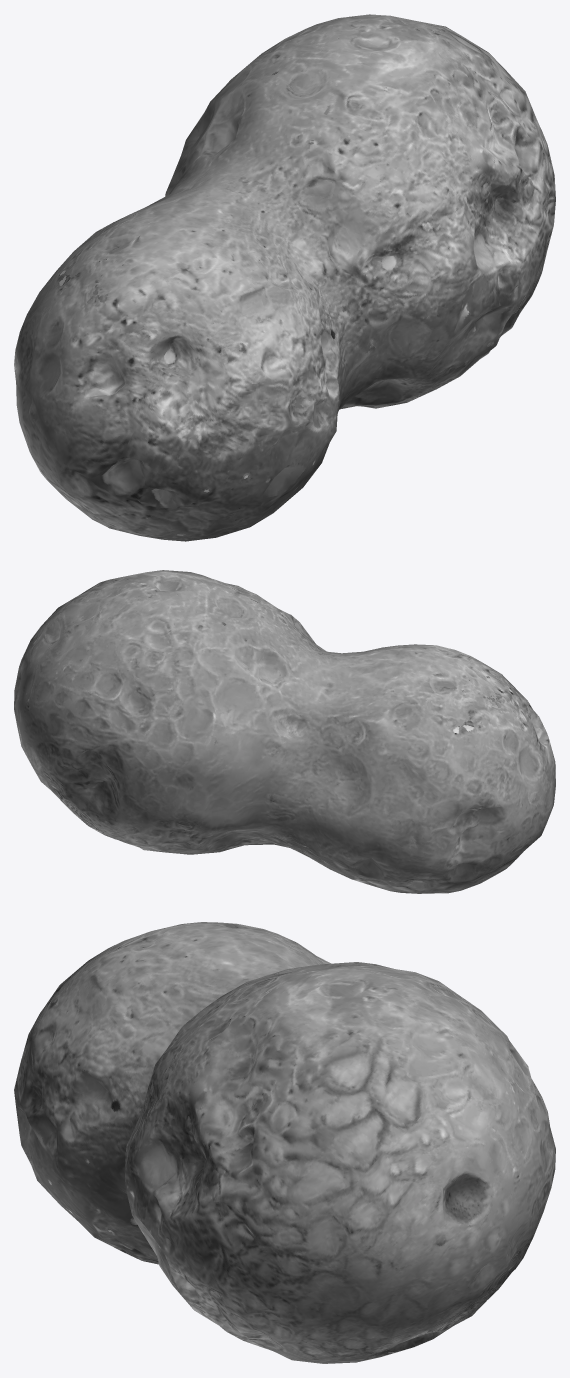
The model's file is rock_05.glb.
3 renders of one model, top to bottom at view 1: azimuth 30°, elevation 25°; view 2: azimuth 150°, elevation 25°; view 3: azimuth 270°, elevation 25°, orthographic. The views are drawn at different scales.
Visible parts, largest first — view 1: rock_05; view 2: rock_05; view 3: rock_05.
Boxes of the visible parts, x1=… form: rock_05: x1=14, y1=14, x2=555, y2=541; rock_05: x1=14, y1=570, x2=555, y2=893; rock_05: x1=14, y1=922, x2=555, y2=1363.
Size of the model in its own units: 1.85 by 1.12 by 1.38.
Materials: 1 (1 with a texture image).
